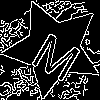M: (28, 23, 89, 84)
